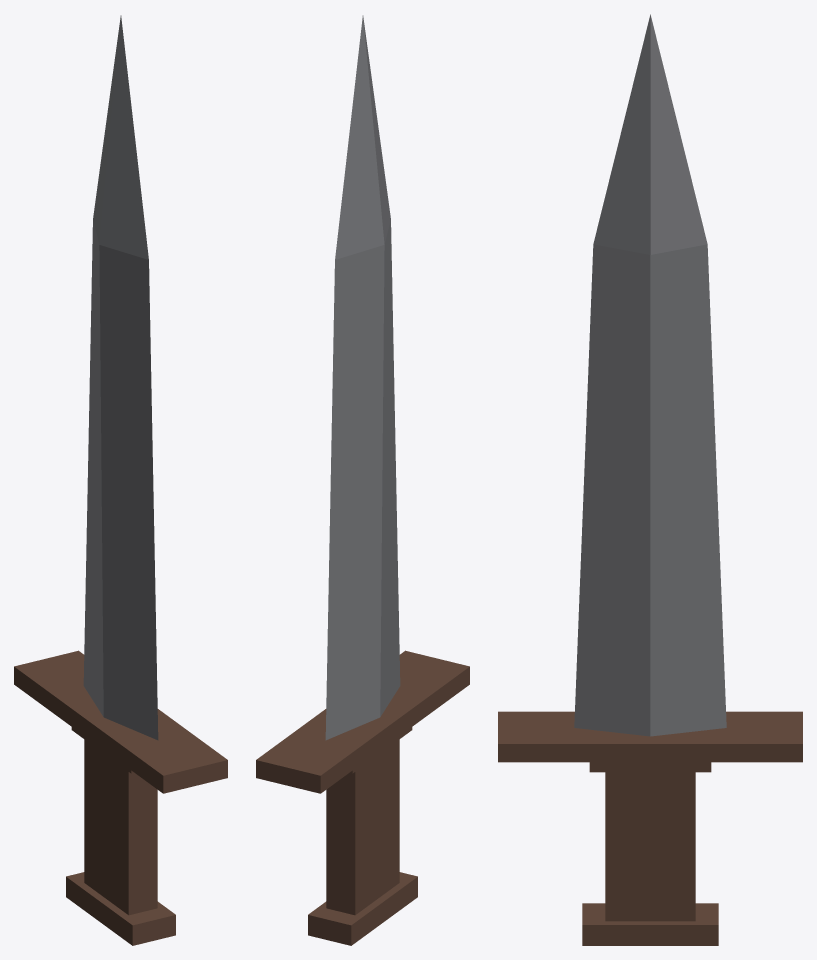
The picture shows the model from 3 angles, left to right: view 1: azimuth 30°, elevation 25°; view 2: azimuth 150°, elevation 25°; view 3: azimuth 270°, elevation 25°; orthographic projection. The views are drawn at different scales.
Parts seen in each view (by area): view 1: Dagger_0.12x0.03x0.4_1, Dagger_0.12x0.03x0.4_0; view 2: Dagger_0.12x0.03x0.4_1, Dagger_0.12x0.03x0.4_0; view 3: Dagger_0.12x0.03x0.4_1, Dagger_0.12x0.03x0.4_0.
Part boxes in pixels (<box>): Dagger_0.12x0.03x0.4_1: <box>83,15,158,740</box>; Dagger_0.12x0.03x0.4_0: <box>14,650,227,945</box>; Dagger_0.12x0.03x0.4_1: <box>325,15,400,740</box>; Dagger_0.12x0.03x0.4_0: <box>256,650,469,945</box>; Dagger_0.12x0.03x0.4_1: <box>574,14,726,736</box>; Dagger_0.12x0.03x0.4_0: <box>498,711,802,945</box>.
Bounding box in the file's own units: 0.03 × 0.4 × 0.12.
